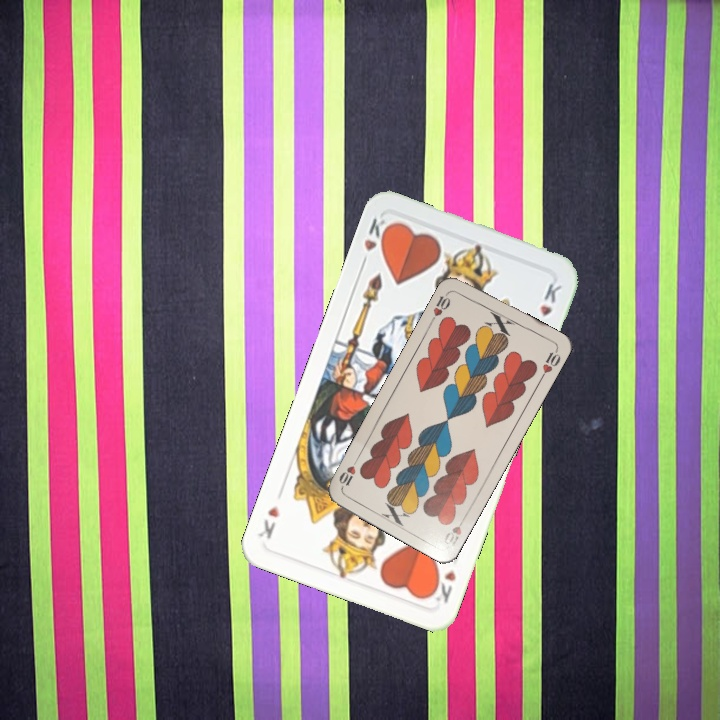H10: (439, 512, 469, 549), (427, 287, 453, 324)
HK: (356, 214, 394, 269), (425, 565, 459, 607)
